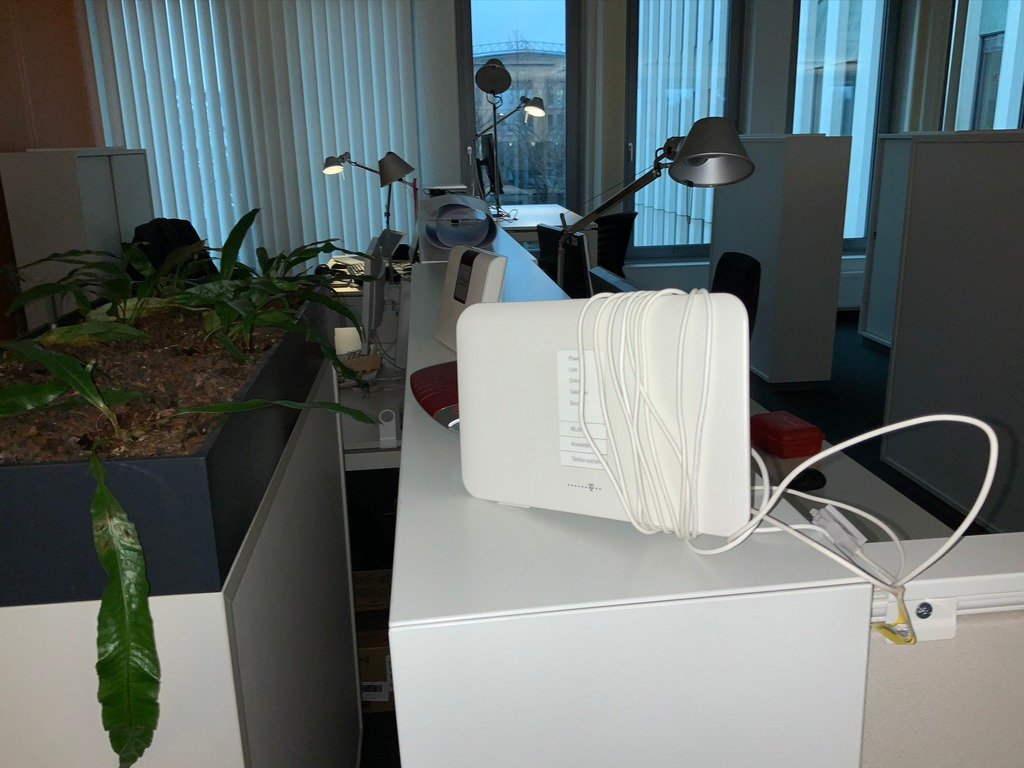router: (465, 292, 757, 546)
